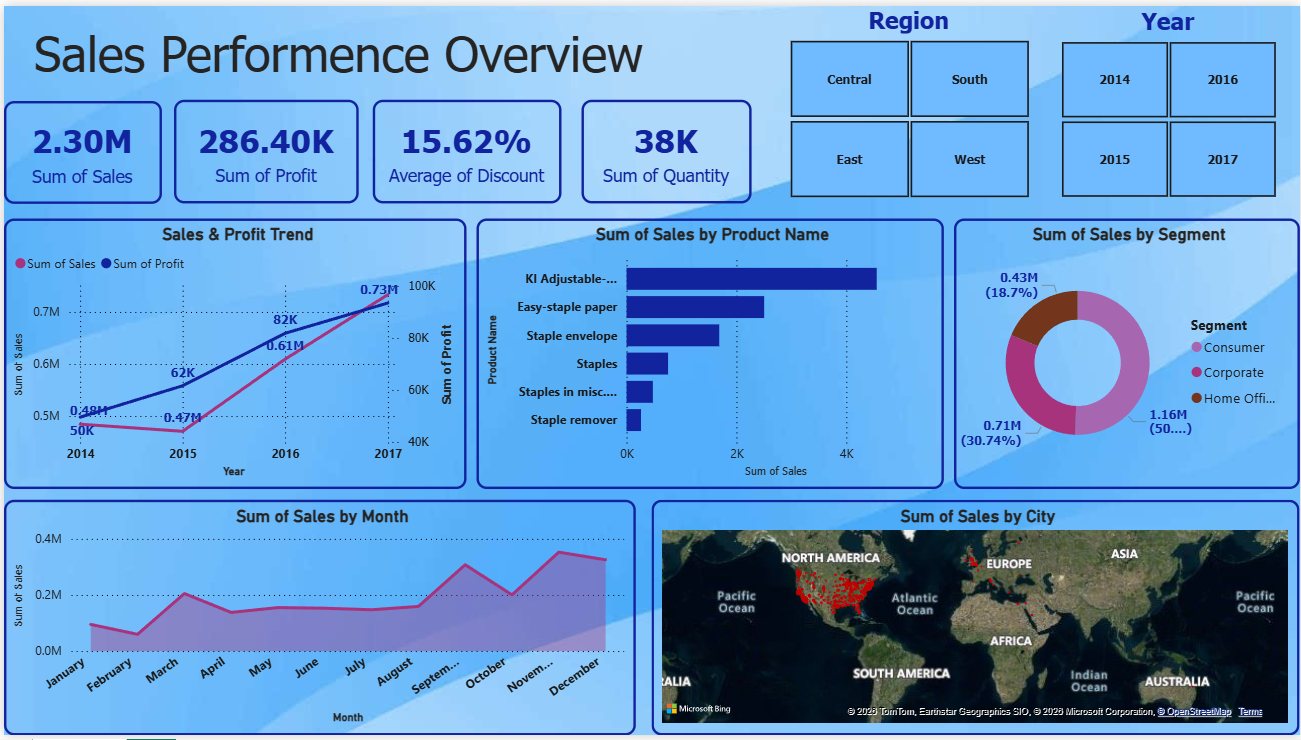

The page's visual inventory and layout, read from the dashboard file:
{"tool":"powerbi","page":{"name":"Page 1","canvas":[1280,720],"ordinal":0},"visuals":[{"type":"card","fields":{"Values":["Sum(cleaned_salesdata.Sales)"]},"box":[0,94.3,155.7,101.4],"z":0},{"type":"card","fields":{"Values":["Sum(cleaned_salesdata.Profit)"]},"box":[167.9,92.6,182.7,102.5],"z":1000},{"type":"card","fields":{"Values":["Sum(cleaned_salesdata.Quantity)"]},"box":[570.4,92.6,167.9,102.5],"z":2000},{"type":"card","fields":{"Values":["Avg(cleaned_salesdata.Discount)"]},"box":[364.2,92.6,186.4,102.5],"z":3000},{"type":"lineChart","title":"Sales & Profit Trend","fields":{"Category":["cleaned_salesdata.Order Date.Variation.Date Hierarchy.Year"],"Y":["Sum(cleaned_salesdata.Sales)"],"Y2":["Sum(cleaned_salesdata.Profit)"]},"box":[0,210,457.1,267.1],"z":4000},{"type":"areaChart","fields":{"Category":["cleaned_salesdata.Order Date.Variation.Date Hierarchy.Month"],"Y":["Sum(cleaned_salesdata.Sales)"]},"box":[0,487.1,624.3,232.9],"z":5000},{"type":"map","fields":{"Category":["cleaned_salesdata.City"],"Size":["Sum(cleaned_salesdata.Sales)"]},"box":[640,487.5,640,232.5],"z":6000},{"type":"donutChart","fields":{"Category":["cleaned_salesdata.Segment"],"Y":["Sum(cleaned_salesdata.Sales)"]},"box":[938.6,210,341.4,267.1],"z":7000},{"type":"clusteredBarChart","fields":{"Category":["cleaned_salesdata.Product Name"],"Y":["Sum(cleaned_salesdata.Sales)"]},"box":[467.1,210,461.4,267.1],"z":8000},{"type":"slicer","title":"Year","fields":{"Values":["cleaned_salesdata.Order Date.Variation.Date Hierarchy.Year"]},"box":[1018.5,1.2,261.7,193.8],"z":9000},{"type":"slicer","title":"Region","fields":{"Values":["cleaned_salesdata.Region"]},"box":[750,0,285.7,195.7],"z":10000},{"type":"textbox","title":"Sales Performence Overview","box":[24.3,17.1,630,87.1],"z":11000}]}

Visuals, with their boxes in screenshot pixels (x1, y1, x2, y2), scaled from the page's 1280x720 canvas onto the 1301x740 screenshot:
card - Sum(cleaned_salesdata.Sales): [0, 97, 158, 201]
card - Sum(cleaned_salesdata.Profit): [171, 95, 356, 201]
card - Sum(cleaned_salesdata.Quantity): [580, 95, 750, 201]
card - Avg(cleaned_salesdata.Discount): [370, 95, 560, 201]
"Sales & Profit Trend" lineChart: [0, 216, 465, 490]
areaChart - cleaned_salesdata.Order Date.Variation.Date Hierarchy.Month x Sum(cleaned_salesdata.Sales): [0, 501, 635, 739]
map - cleaned_salesdata.City x Sum(cleaned_salesdata.Sales): [650, 501, 1300, 739]
donutChart - cleaned_salesdata.Segment x Sum(cleaned_salesdata.Sales): [954, 216, 1300, 490]
clusteredBarChart - cleaned_salesdata.Product Name x Sum(cleaned_salesdata.Sales): [475, 216, 944, 490]
"Year" slicer: [1035, 1, 1300, 200]
"Region" slicer: [762, 0, 1053, 201]
"Sales Performence Overview" textbox: [25, 18, 665, 107]
